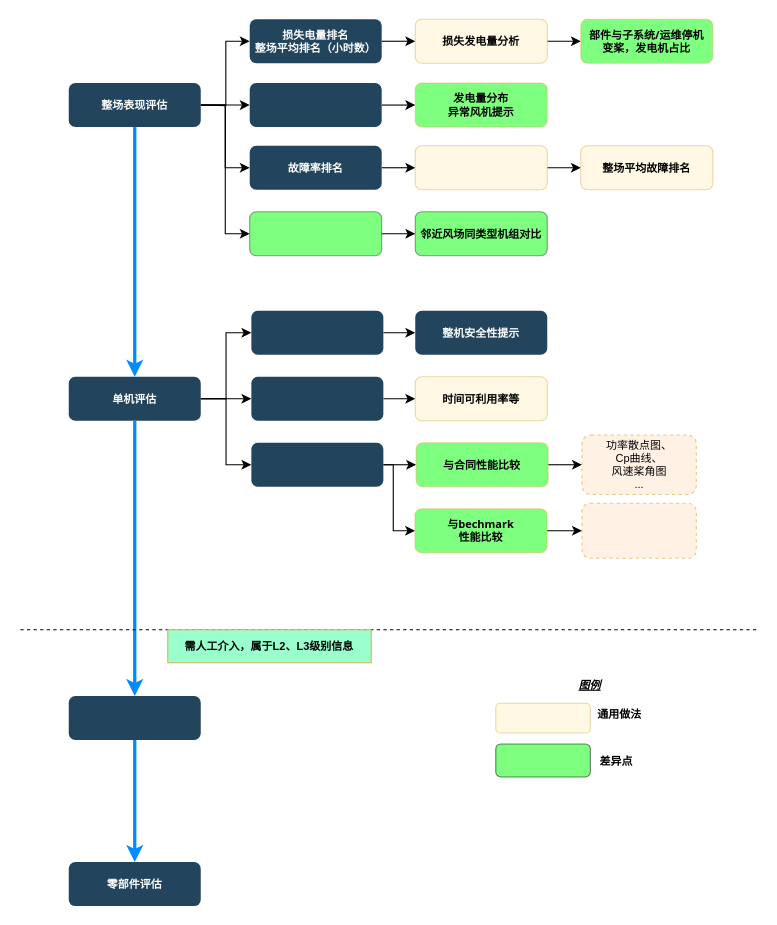
The diagram is 777 pixels wide and 925 high, and some of its shapes have lost their labels. Each missing label, with the centre of its shape:
与Bechmark 风场对比: point (315, 233)
发电量排名（小时数）: point (315, 104)
可靠性评估: point (317, 398)
子系统评估: point (134, 717)
安全性评估: point (317, 332)
性能评估: point (317, 464)
邻近风机比较、 典型风机比较、 自身历史比较 ...: point (638, 530)
首发故障统计: point (480, 167)
